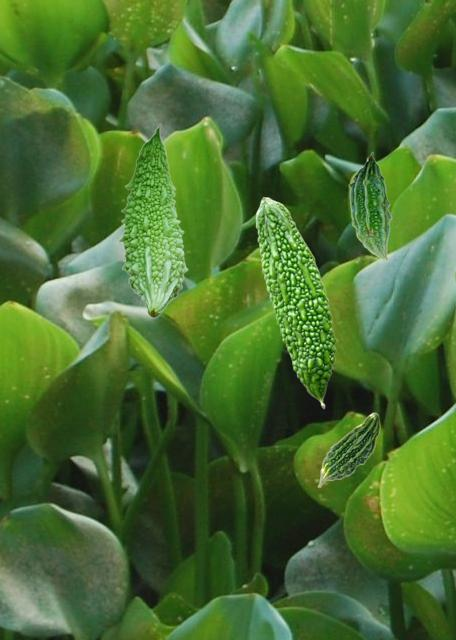ampalaya: (255, 196, 338, 409), (117, 123, 188, 318), (348, 151, 392, 262), (317, 412, 380, 488)
